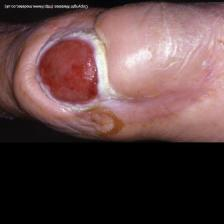Wound: (24, 24, 128, 119)
